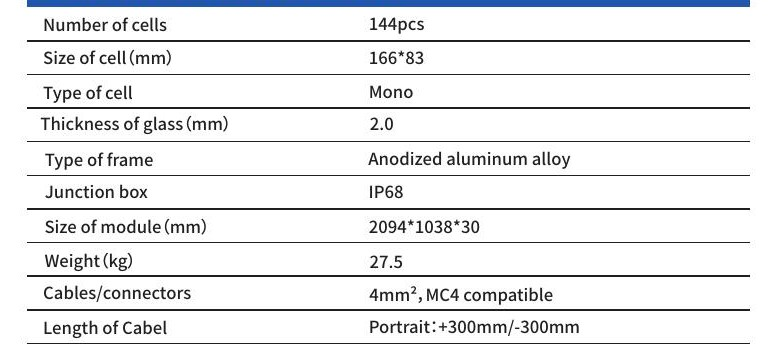table: (9, 2, 767, 356)
table column: (348, 4, 742, 348), (36, 6, 338, 348)
table row: (30, 245, 752, 274), (29, 212, 751, 240), (30, 279, 752, 306), (28, 9, 749, 36), (29, 145, 750, 172), (29, 45, 749, 72), (30, 179, 750, 206), (30, 314, 752, 340), (30, 78, 750, 104), (28, 111, 751, 135)
